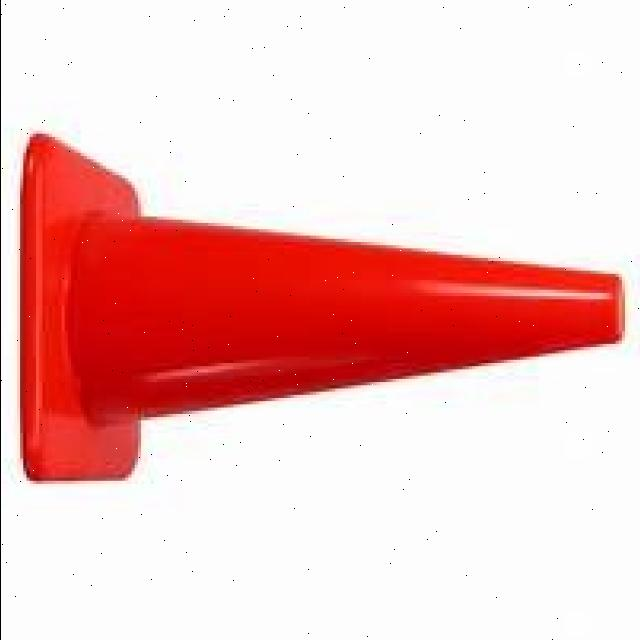traffic cone: (11, 120, 637, 500)
